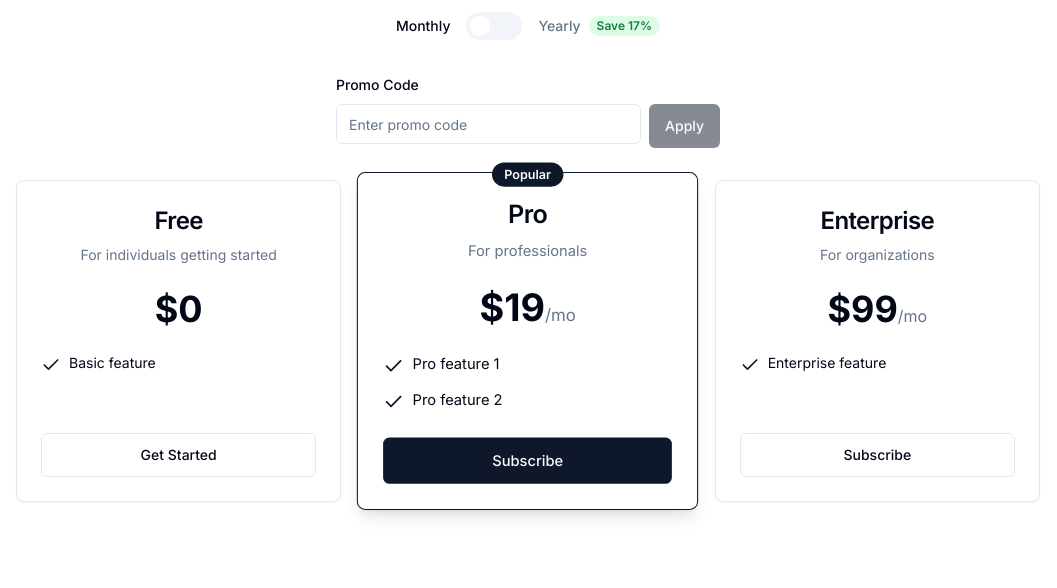
Test: PricingTable › error handling › displays error on network failure
This screenshot has width=1057, height=588.
Click the button "Subscribe" below "Pro feature 2" at (528, 461), box [383,438,672,484]
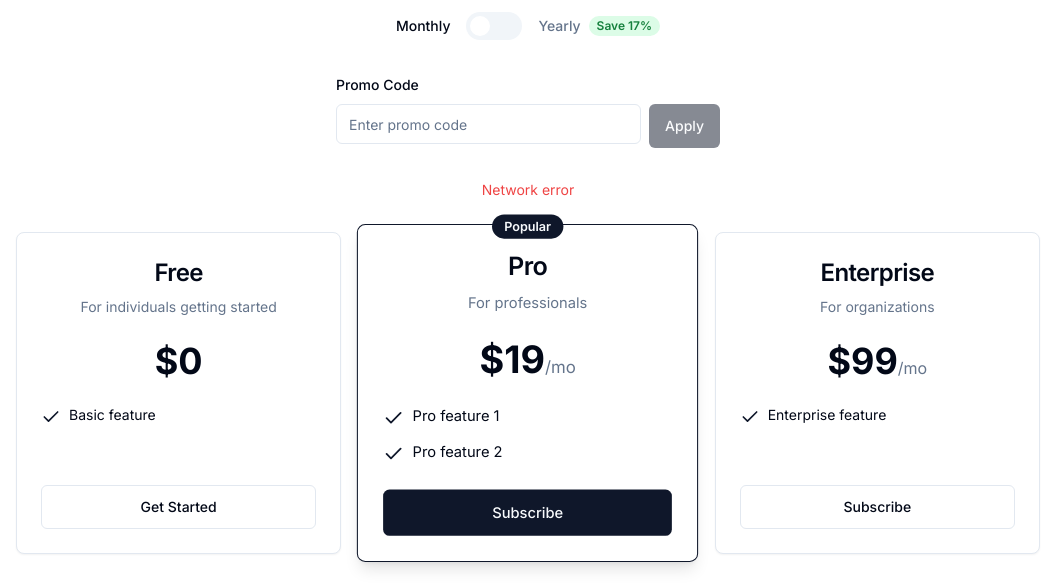
Expected: the text "Network error" is shown, [482,181,574,198]
